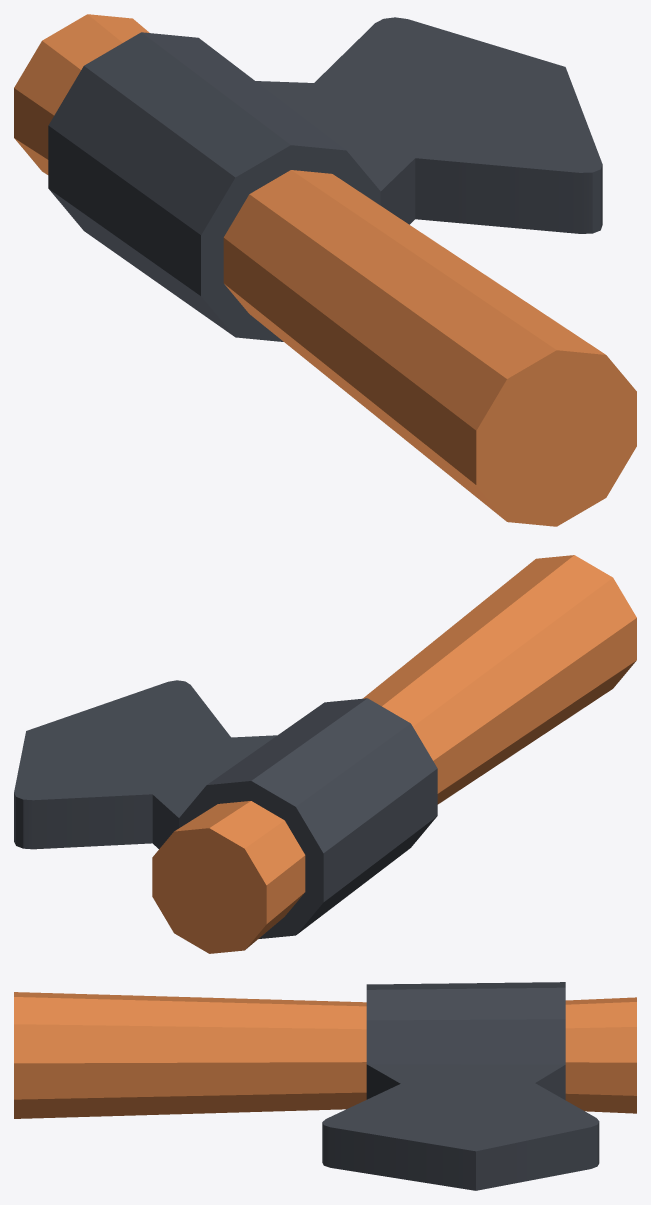
Rendered from Axe.fbx.
3 views of the same model, one above another, from view 1: azimuth 30°, elevation 25°; view 2: azimuth 150°, elevation 25°; view 3: azimuth 270°, elevation 25° (orthographic). The views are drawn at different scales.
Visible parts, largest first — view 1: Axe; view 2: Axe; view 3: Axe.
Boxes of the visible parts, x1=… form: Axe: x1=14, y1=14, x2=636, y2=526; Axe: x1=14, y1=555, x2=636, y2=953; Axe: x1=14, y1=982, x2=636, y2=1190.
Bounding box in the file's own units: 114 × 49.35 × 205.
